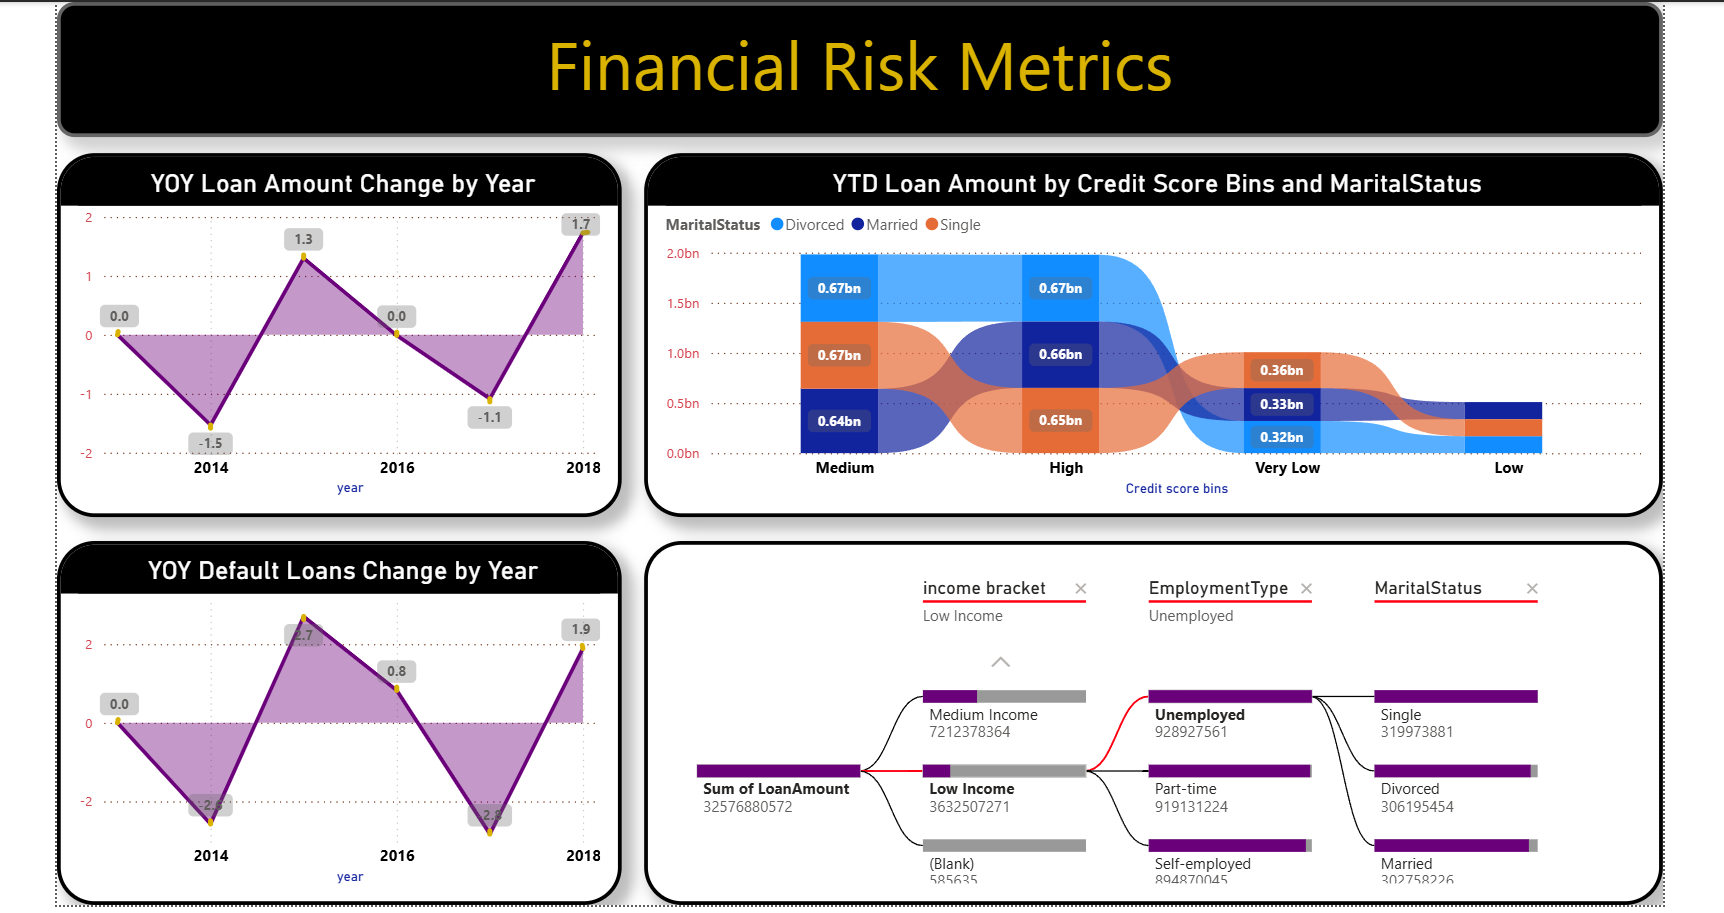

The page's visual inventory and layout, read from the dashboard file:
{"tool":"powerbi","page":{"name":"Financial Risk Metrics","canvas":[1280,720],"ordinal":2},"visuals":[{"type":"textbox","box":[0,0,1279.7,107.4],"z":0},{"type":"lineChart","title":"YOY Default Loans Change by Year","fields":{"Category":["Loan_default.year"],"Y":["Measure Table 3.yoy default loans change"]},"box":[0,429.4,450,290.2],"z":1000},{"type":"lineChart","title":"YOY Loan Amount Change by Year","fields":{"Category":["Loan_default.year"],"Y":["Measure Table 3.yoy loan amount change"]},"box":[0,120.5,450,290],"z":2000},{"type":"decompositionTreeVisual","fields":{"Analyze":["Sum(Loan_default.LoanAmount)"],"ExplainBy":["Loan_default.income bracket","Loan_default.EmploymentType","Loan_default.MaritalStatus"]},"box":[468,429.4,812,290.2],"z":3000},{"type":"ribbonChart","title":"YTD Loan Amount by Credit Score Bins and MaritalStatus","fields":{"Y":["Measure Table 3.YTD loan amount"],"Category":["Loan_default.Credit score bins"],"Series":["Loan_default.MaritalStatus"]},"box":[468,120.5,812,290],"z":4000}]}

Visuals, with their boxes in screenshot pixels (x1, y1, x2, y2):
textbox: <box>58,0,1656,134</box>
"YOY Default Loans Change by Year" lineChart: <box>58,536,620,898</box>
"YOY Loan Amount Change by Year" lineChart: <box>58,150,620,512</box>
decompositionTreeVisual - Sum(Loan_default.LoanAmount) x Loan_default.income bracket: <box>643,536,1656,898</box>
"YTD Loan Amount by Credit Score Bins and MaritalStatus" ribbonChart: <box>643,150,1656,512</box>
